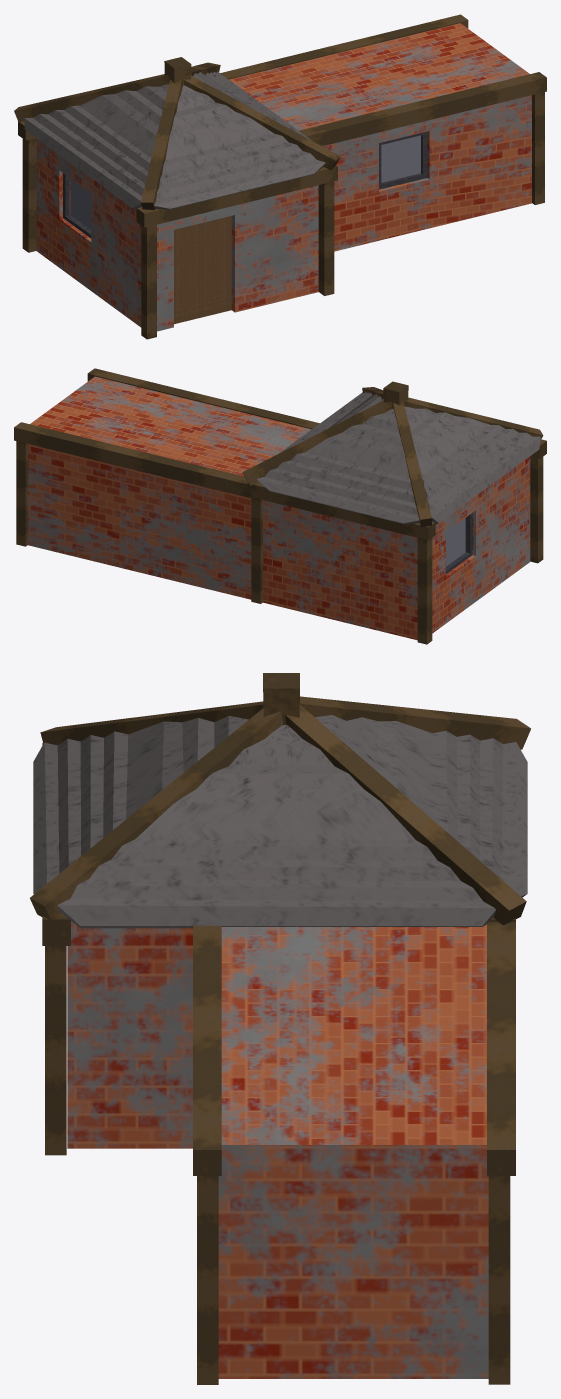
File: CasasPeriferica1.fbx
3 renders of one model, top to bottom at view 1: azimuth 30°, elevation 25°; view 2: azimuth 150°, elevation 25°; view 3: azimuth 270°, elevation 25°, orthographic. The views are drawn at different scales.
Parts seen in each view (by area): view 1: LOD_0; view 2: LOD_0; view 3: LOD_0.
Part boxes in pixels (bbox=[...]): LOD_0: bbox=[14, 14, 546, 339]; LOD_0: bbox=[14, 368, 546, 644]; LOD_0: bbox=[30, 673, 530, 1384].
Size of what is drawn, in the model's own units: 829 by 370 by 431.
